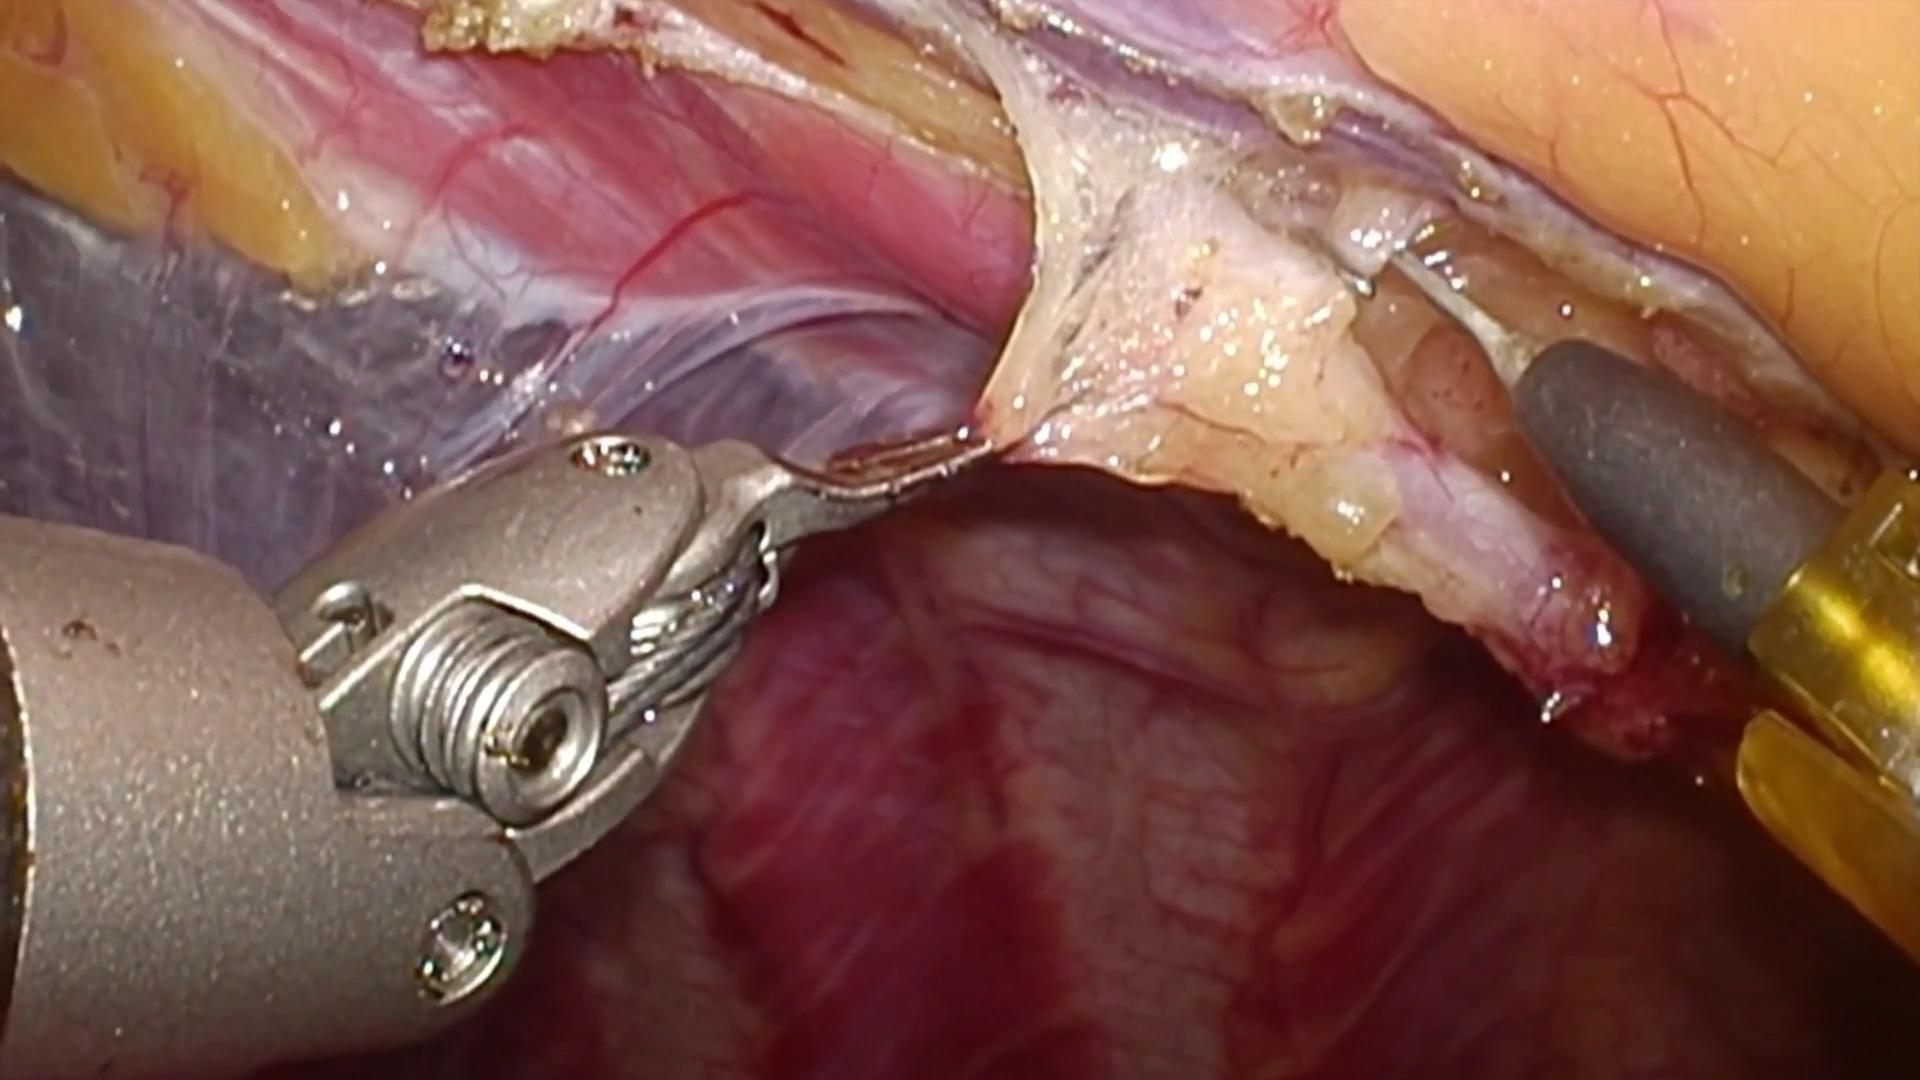Cautery_Spatula: (1375, 232, 1845, 644)
Debakey: (698, 422, 998, 576)
